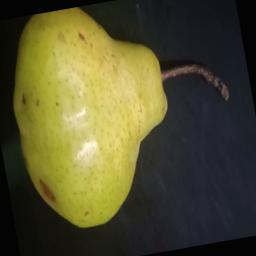Pear Unripe: (0, 0, 252, 242)
